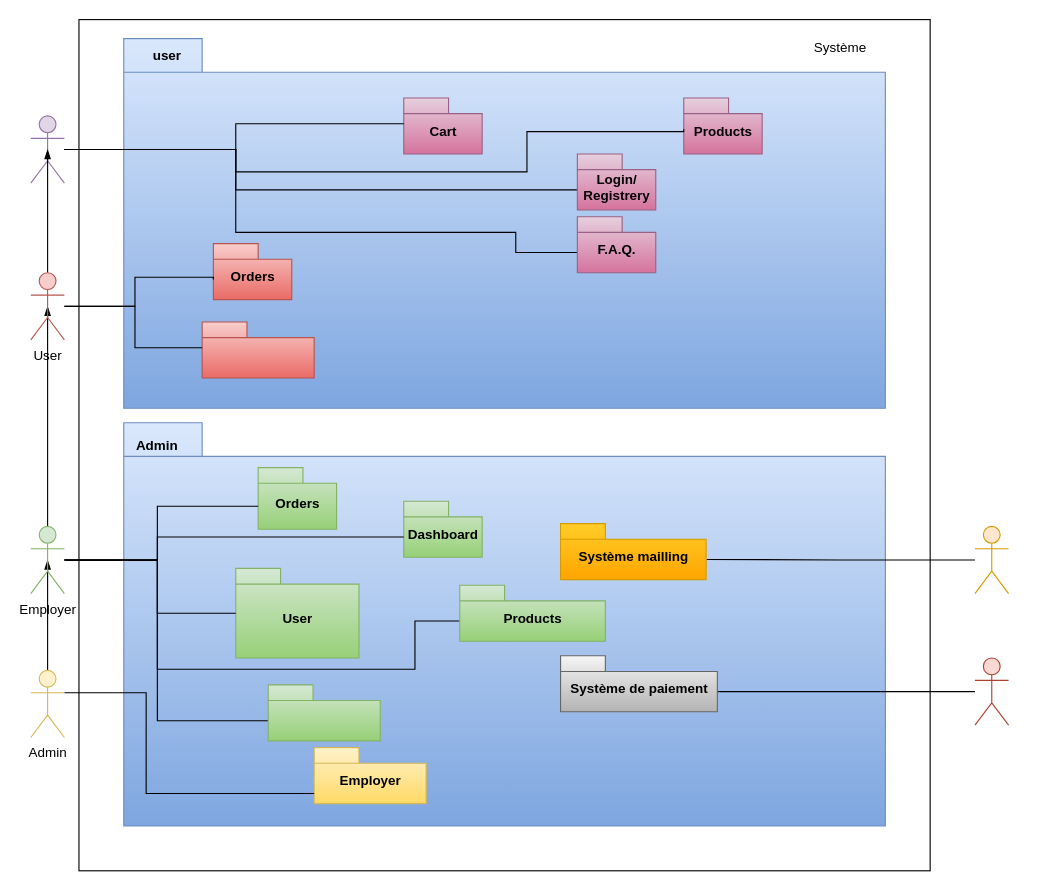
This 1045x890 diagram has some shape labels left out. Here are the shapes that lost their labels. From the top down, the centre of each, then its label:
point 47,149: Visitor
point 257,349: User Account
point 991,559: <Système> MailJet
point 991,691: <Systeme> Stripe
point 323,712: Messages
